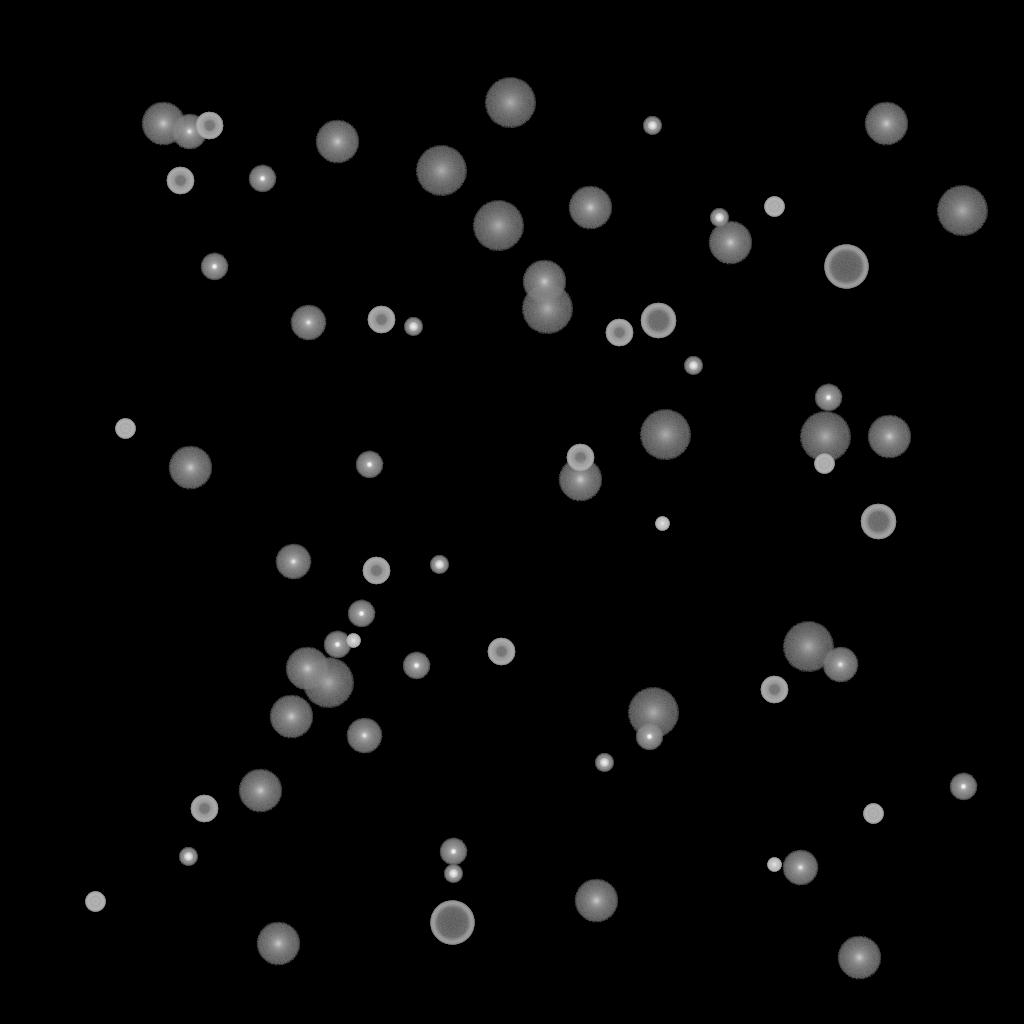depth:-10: (347, 600, 375, 628), (200, 253, 228, 281), (355, 451, 383, 479), (949, 773, 977, 801), (814, 384, 842, 412), (323, 631, 351, 659), (439, 838, 467, 866), (635, 723, 663, 751), (248, 165, 276, 193), (402, 652, 430, 680)
depth:-20: (710, 209, 728, 227), (684, 357, 702, 375), (404, 318, 422, 336), (179, 848, 197, 866), (643, 117, 661, 135), (430, 556, 448, 574), (595, 754, 613, 772), (444, 865, 462, 883)
depth:-30: (346, 634, 360, 648), (767, 858, 781, 872), (655, 517, 669, 531)
depth:-40: (85, 892, 105, 912), (814, 454, 834, 474), (764, 197, 784, 217), (863, 804, 883, 824), (115, 419, 135, 439)
depth:-50: (487, 638, 515, 666), (566, 444, 594, 472), (367, 306, 395, 334), (190, 795, 218, 823), (166, 167, 194, 195), (605, 319, 633, 347), (195, 112, 223, 140), (362, 557, 390, 585), (760, 676, 788, 704)
depth:-60: (860, 504, 896, 540), (640, 303, 676, 339)
depth:-70: (430, 901, 474, 945), (824, 245, 868, 289)
depth:0: (782, 850, 818, 886), (346, 718, 382, 754), (822, 647, 858, 683), (290, 305, 326, 341), (171, 114, 207, 150), (275, 544, 311, 580)
depth:10: (141, 102, 185, 146), (558, 458, 602, 502), (864, 102, 908, 146), (867, 415, 911, 459), (168, 446, 212, 490), (708, 221, 752, 265), (837, 936, 881, 980), (285, 647, 329, 691), (269, 695, 313, 739), (238, 769, 282, 813), (522, 260, 566, 304), (315, 120, 359, 164), (574, 879, 618, 923), (568, 186, 612, 230), (256, 922, 300, 966)
depth:20: (415, 146, 467, 196), (782, 622, 834, 672), (639, 410, 691, 460), (627, 688, 679, 738), (799, 412, 851, 462), (936, 186, 988, 236), (472, 201, 524, 251), (521, 284, 573, 334), (302, 658, 354, 708), (484, 78, 536, 128)
